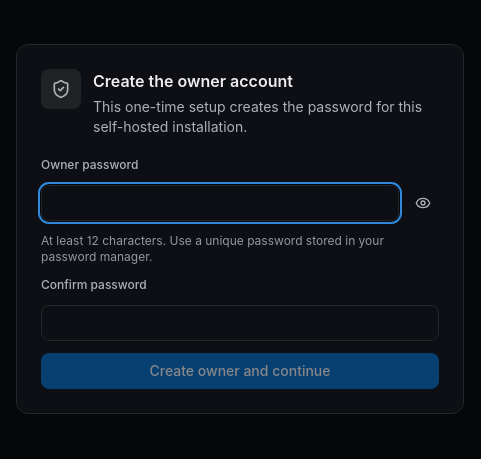
Test: server owner setup › keeps setup state intact when owner creation fails
Type "a unique long password" into the password field labelled "Owner password". click: [220, 203]
box: [41,185,399,221]
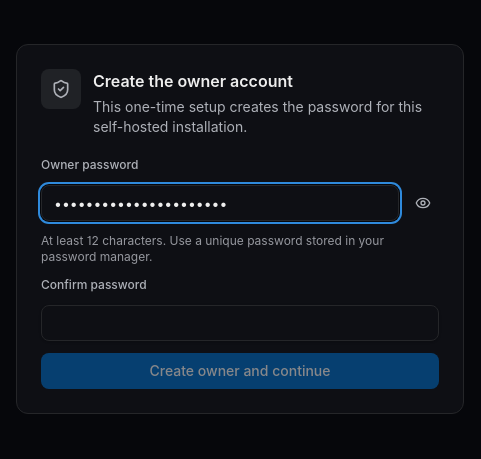
Type "a unique long password" into the password field labelled "Confirm password". click: [240, 323]
box: [41,305,439,341]
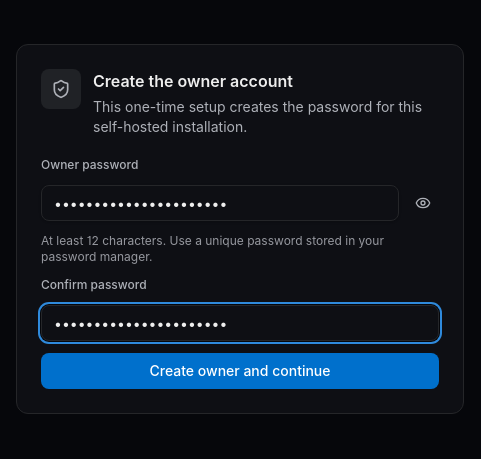
Click the button "Create owner and continue". click: [240, 371]
box: [41,353,439,389]
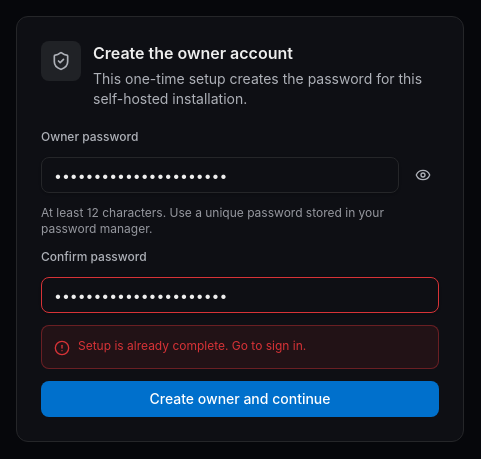
Expected: the heading "Create the owner account" is shown, [93,43,293,63]
Result: the message reads "Setup is already complete. Go to sign in." at [78,338,306,353]
